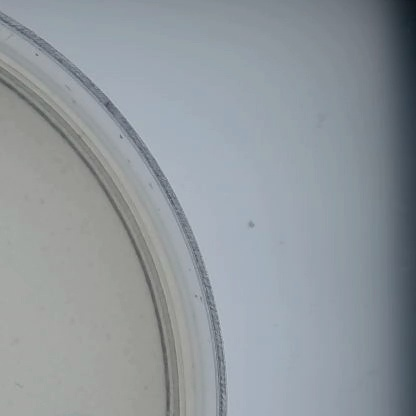worm: (11, 375, 29, 392)
